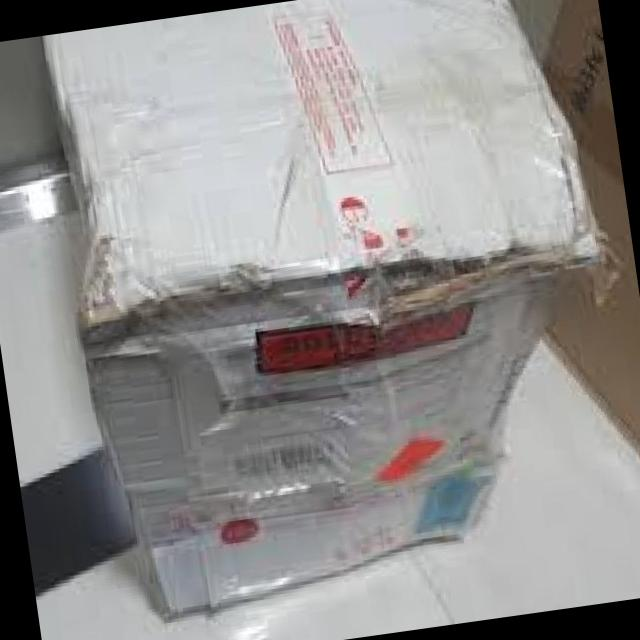box: (103, 113, 541, 534)
